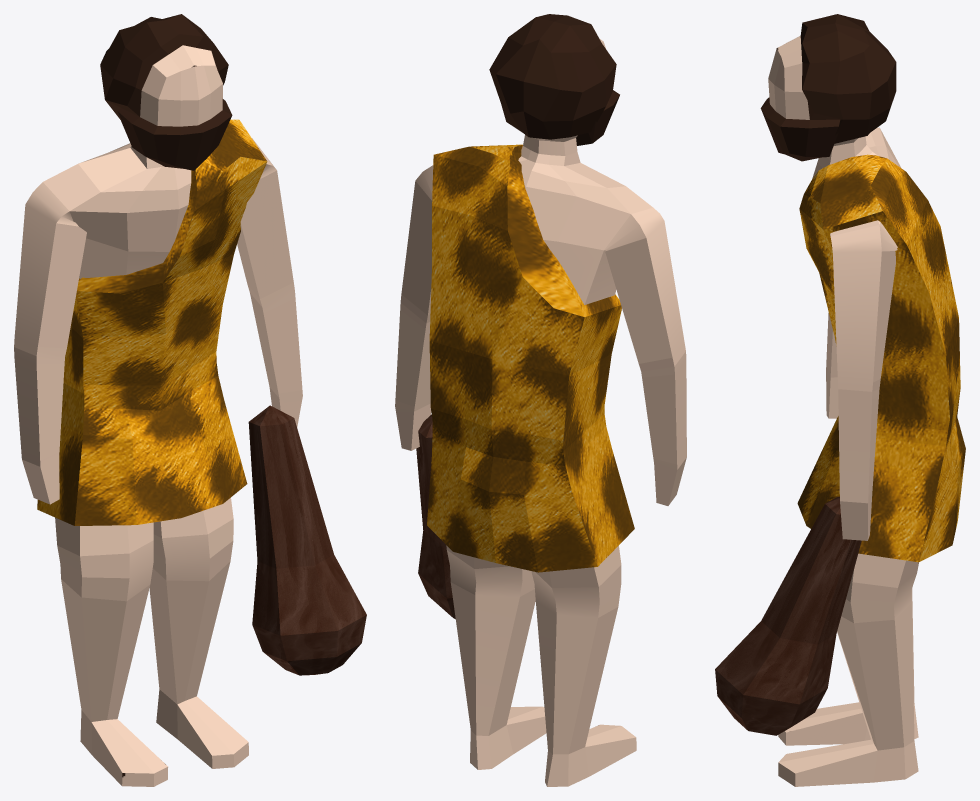
The model's file is caveman.glb.
The picture shows the model from 3 angles, left to right: view 1: azimuth 30°, elevation 25°; view 2: azimuth 150°, elevation 25°; view 3: azimuth 270°, elevation 25°; orthographic projection.
Visible parts, largest first — view 1: Object_3, Object_4, Object_2; view 2: Object_3, Object_4, Object_2; view 3: Object_3, Object_4, Object_2.
Part boxes in pixels (<box>): Object_3: <box>14,14,302,786</box>; Object_4: <box>37,119,267,525</box>; Object_2: <box>248,405,366,675</box>; Object_3: <box>395,14,686,786</box>; Object_4: <box>427,144,634,572</box>; Object_2: <box>416,414,455,618</box>; Object_3: <box>760,14,918,786</box>; Object_4: <box>797,154,965,562</box>; Object_2: <box>715,496,861,735</box>.
Size of the model in its own units: 0.3659 by 0.8829 by 0.2734.
3 materials, 3 textured.
